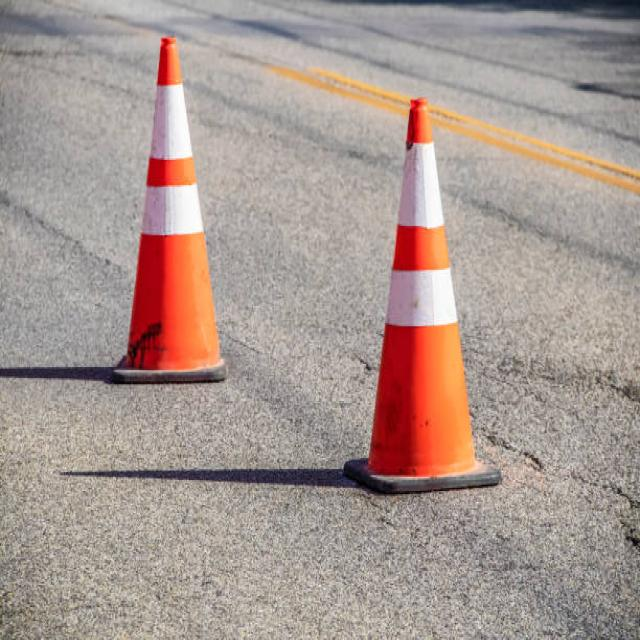cone: (348, 89, 512, 496), (116, 33, 232, 394)
